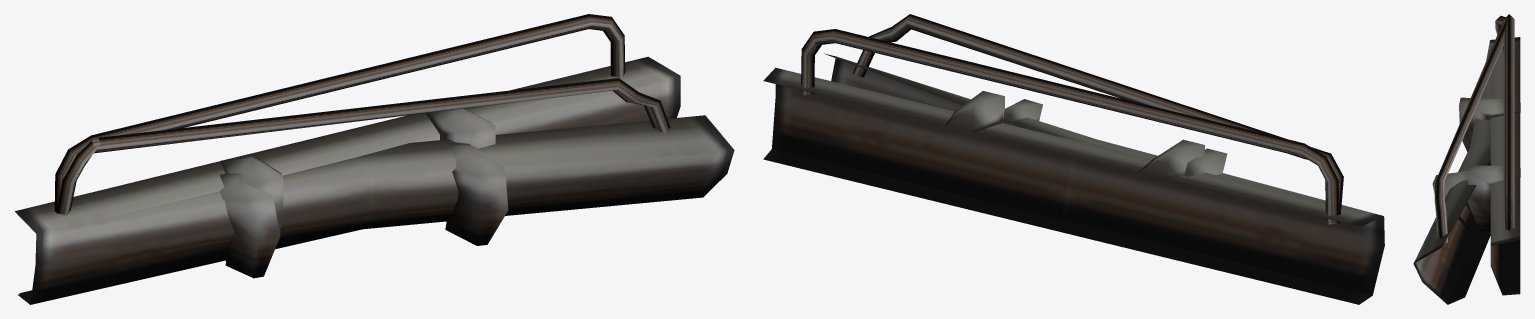
Rendered from rbmp_lr_rem2.glb.
3 views of the same model, side by side, from view 1: azimuth 30°, elevation 25°; view 2: azimuth 150°, elevation 25°; view 3: azimuth 270°, elevation 25° (orthographic). The views are drawn at different scales.
Parts seen in each view (by area): view 1: rbmp_lr_rem2_dam, rbmp_lr_rem2; view 2: rbmp_lr_rem2, rbmp_lr_rem2_dam; view 3: rbmp_lr_rem2, rbmp_lr_rem2_dam.
Part boxes in pixels (box(x1,y1,x2,y2)): rbmp_lr_rem2_dam: box(17, 78, 734, 304); rbmp_lr_rem2: box(15, 14, 680, 301); rbmp_lr_rem2: box(763, 29, 1382, 304); rbmp_lr_rem2_dam: box(824, 14, 1384, 304); rbmp_lr_rem2: box(1467, 14, 1520, 295); rbmp_lr_rem2_dam: box(1413, 16, 1506, 304).
Bounding box in the file's own units: 1.94 × 0.4775 × 0.4254.
1 material, 1 textured.
